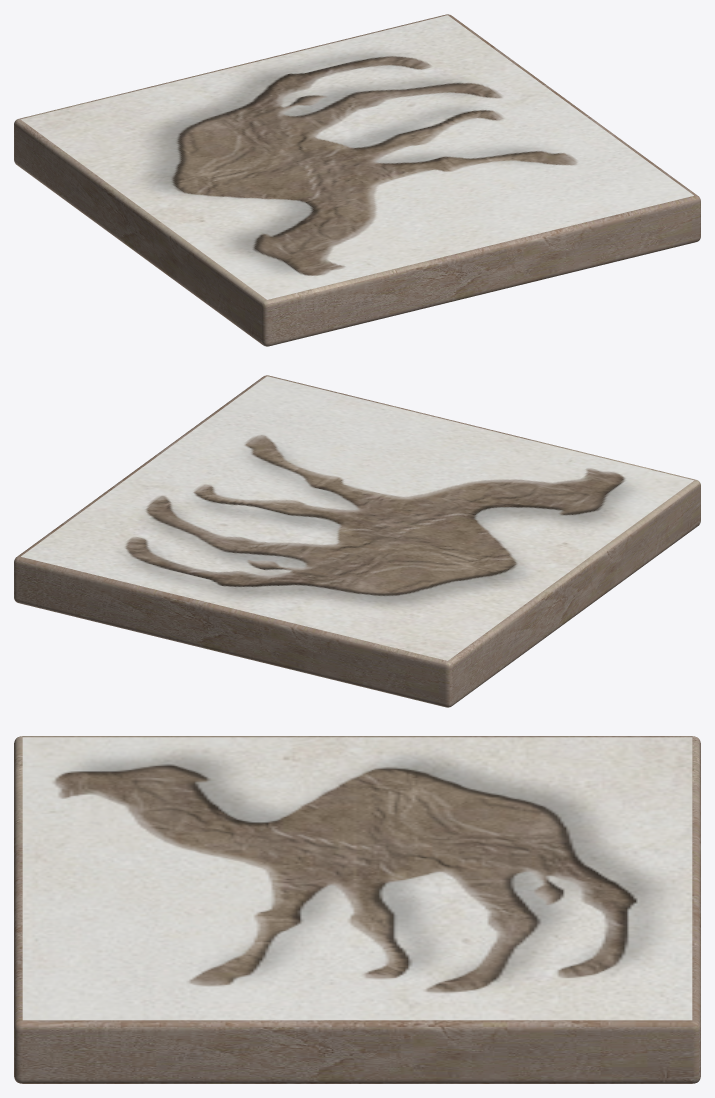
Rendered from tile25.glb.
3 views of the same model, one above another, from view 1: azimuth 30°, elevation 25°; view 2: azimuth 150°, elevation 25°; view 3: azimuth 270°, elevation 25° (orthographic). The views are drawn at different scales.
Parts seen in each view (by area): view 1: Box001; view 2: Box001; view 3: Box001.
Boxes of the visible parts, x1,y1,x2,y2 form: Box001: [14, 14, 700, 346]; Box001: [14, 375, 700, 707]; Box001: [14, 736, 700, 1083].
Size of the model in its own units: 0.254 by 0.0254 by 0.254.
Materials: 2 (2 with a texture image).
